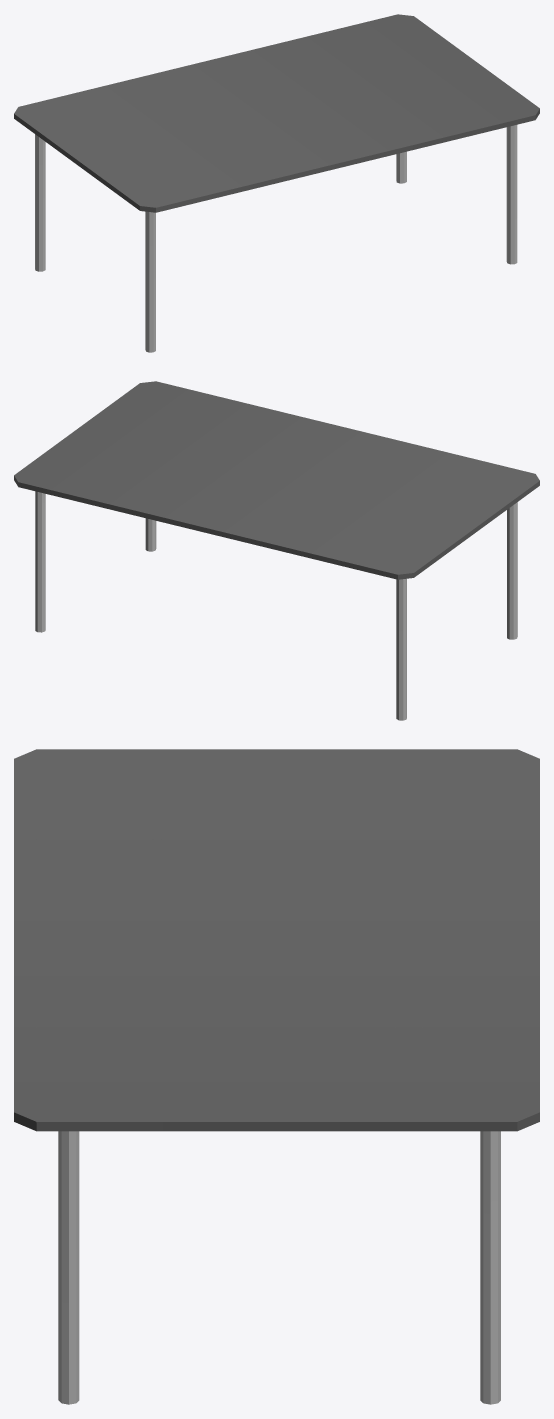
The model's file is Table.fbx.
3 views of the same model, one above another, from view 1: azimuth 30°, elevation 25°; view 2: azimuth 150°, elevation 25°; view 3: azimuth 270°, elevation 25° (orthographic). The views are drawn at different scales.
Parts seen in each view (by area): view 1: Table; view 2: Table; view 3: Table.
Boxes of the visible parts, x1,y1,x2,y2 form: Table: [14, 14, 539, 352]; Table: [14, 381, 539, 720]; Table: [14, 749, 539, 1404].
Bounding box in the file's own units: 285 × 106 × 170.
